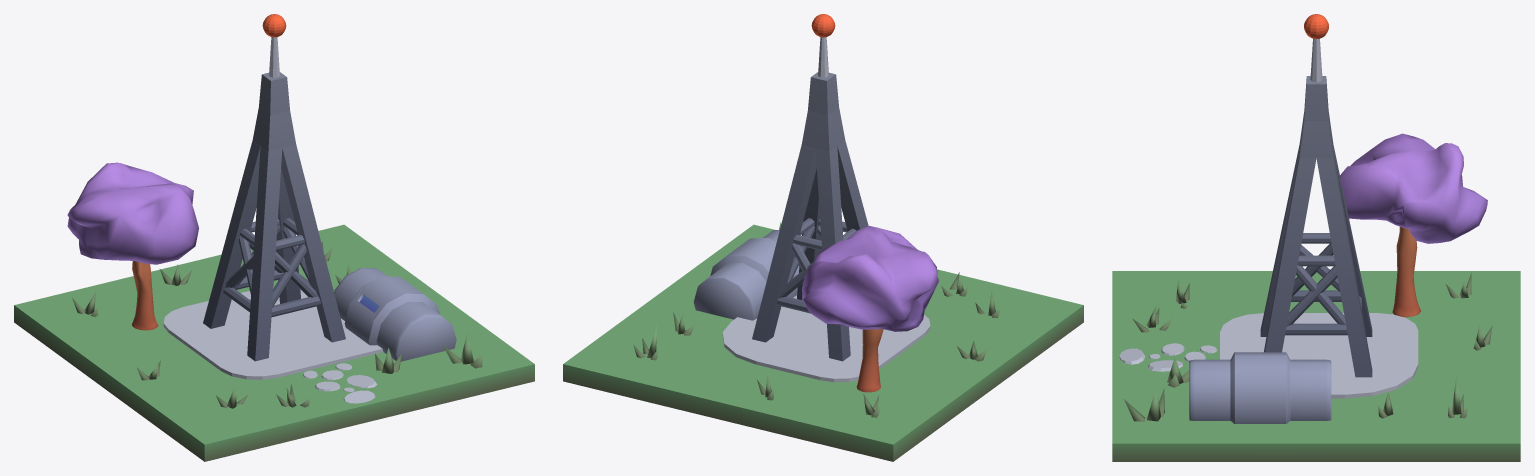
Rendered from radio_tower.glb.
3 renders of one model, left to right at view 1: azimuth 30°, elevation 25°; view 2: azimuth 150°, elevation 25°; view 3: azimuth 270°, elevation 25°, orthographic. The views are drawn at different scales.
Parts seen in each view (by area): view 1: radio_tower; view 2: radio_tower; view 3: radio_tower.
Part boxes in pixels (box(x1,y1,x2,y2)): radio_tower: box(14, 14, 534, 461); radio_tower: box(563, 14, 1083, 461); radio_tower: box(1112, 14, 1520, 461).
Size of the model in its own units: 1 by 1.02 by 1.
1 material, 1 textured.
